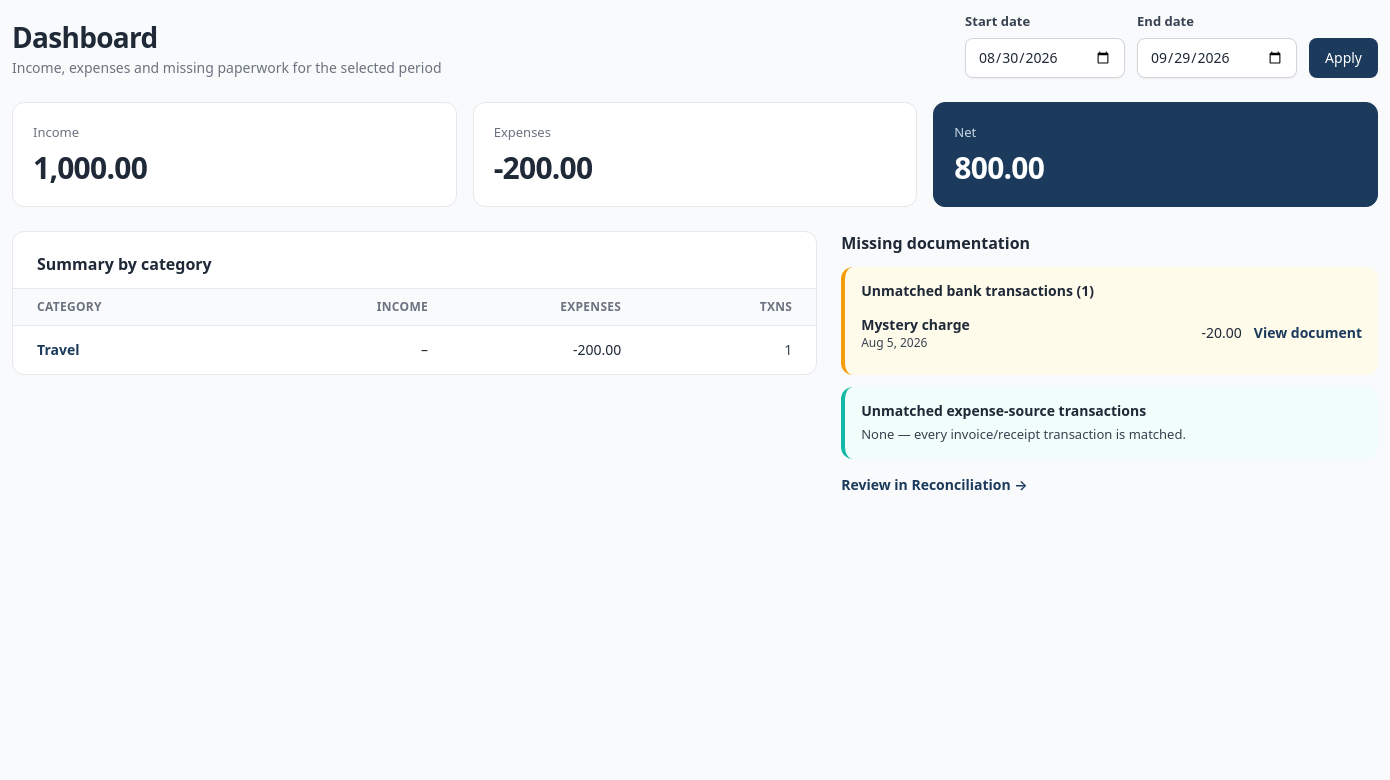
dashboard › drills down from a summary line to its transactions and the source document
The image size is (1390, 780).
Click the button "Travel".
click(58, 350)  # box [37,340,80,360]
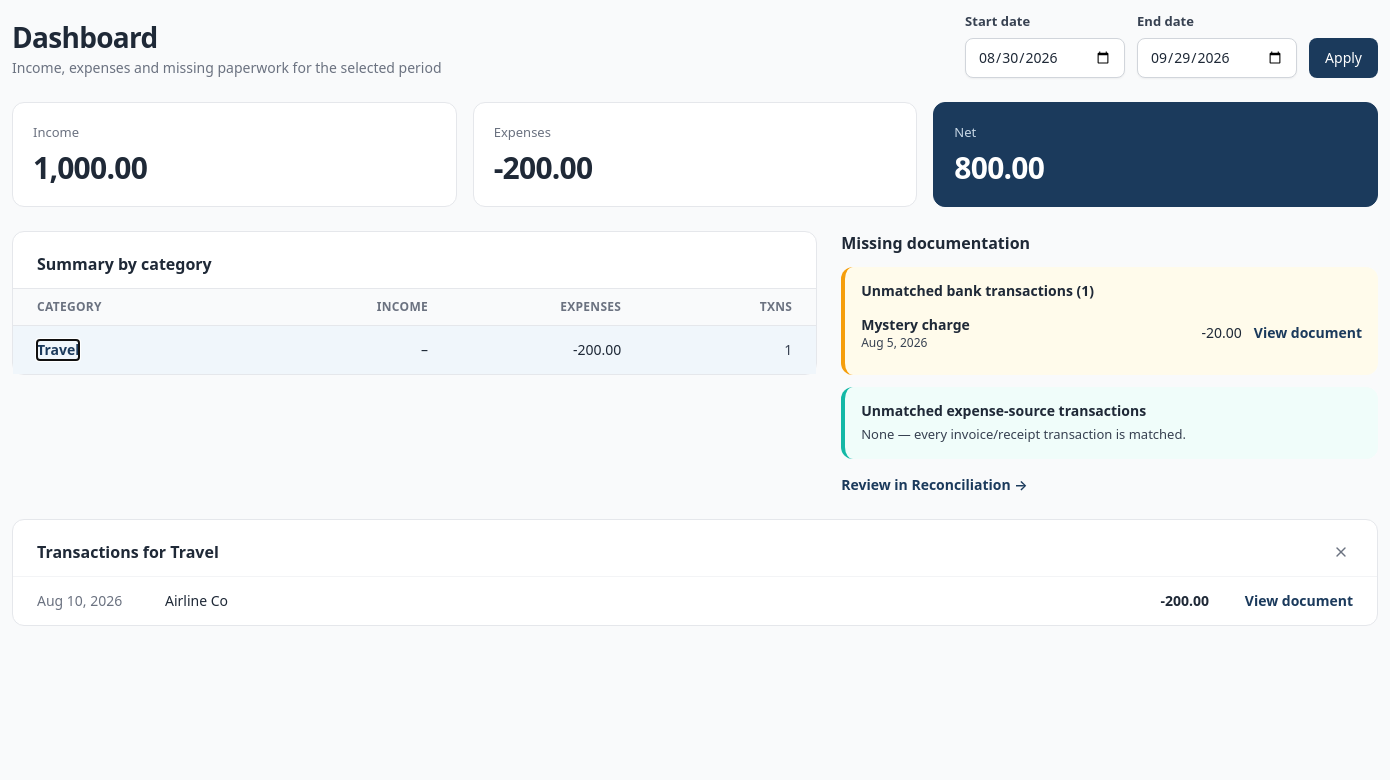
Result: the link "Airline Co" is shown at [165,590,228,610]
Click the button "View document" in the row of "Aug 10, 2026".
click(1289, 600)  # box [1225,590,1353,610]
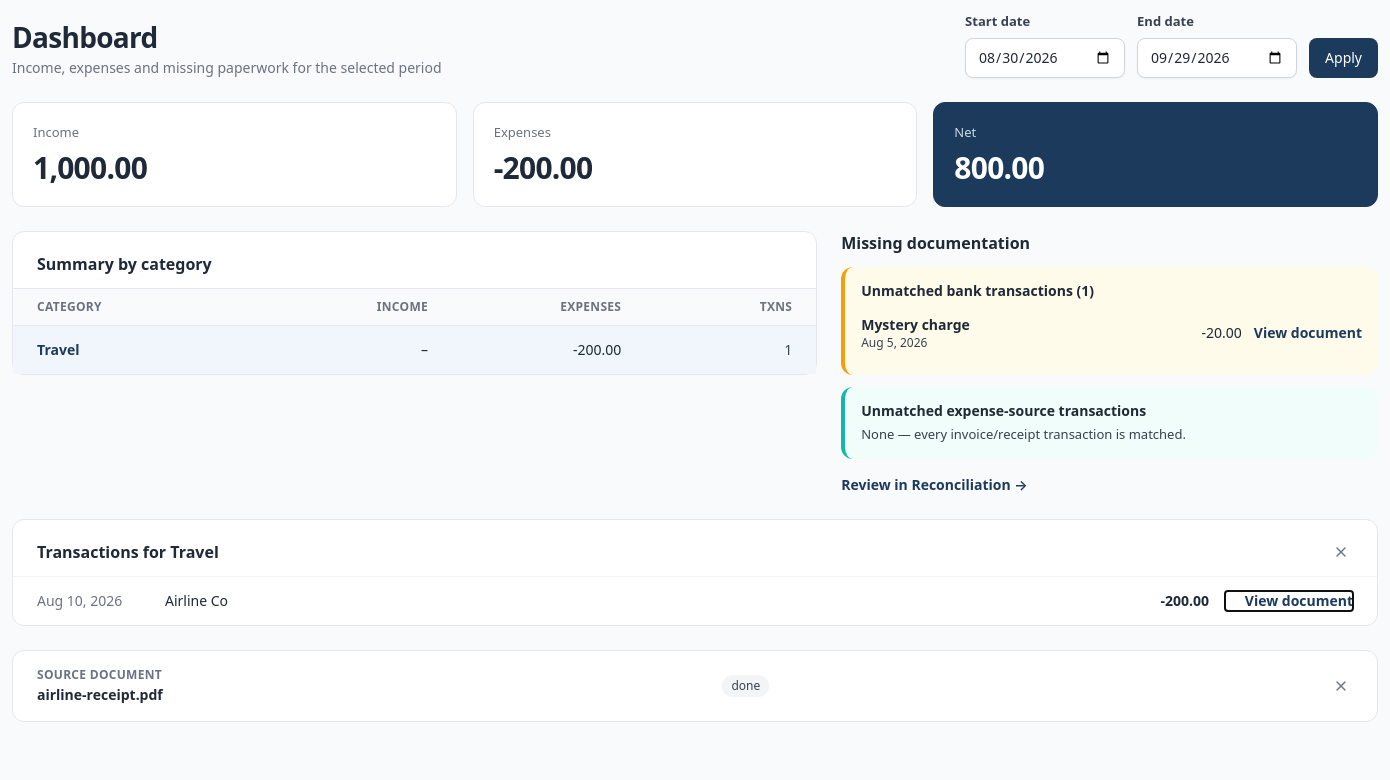
Result: the element with test id "document-preview" shows "airline-receipt.pdf" at [37,684,163,704]
